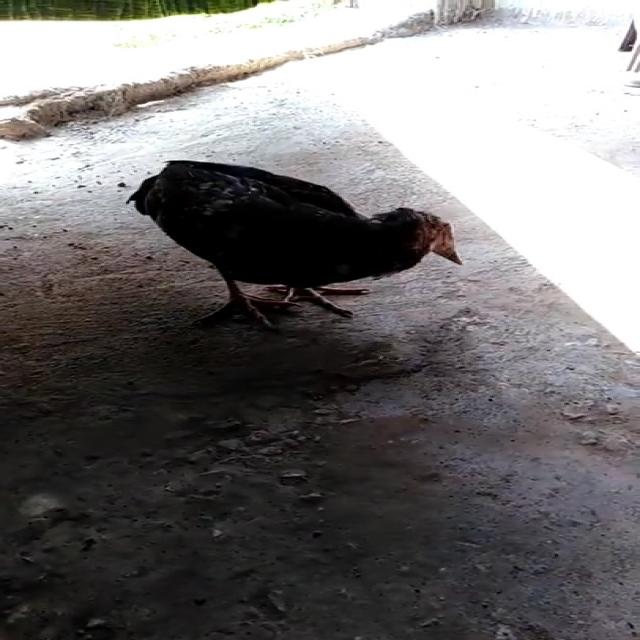newcastle: (126, 135, 476, 336)
